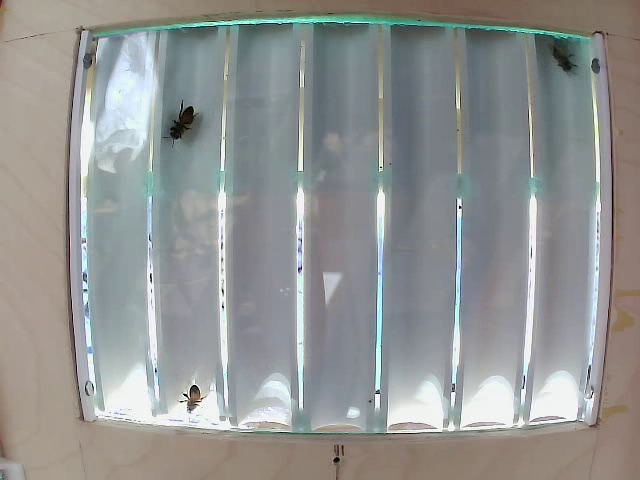bee: (158, 94, 198, 161)
